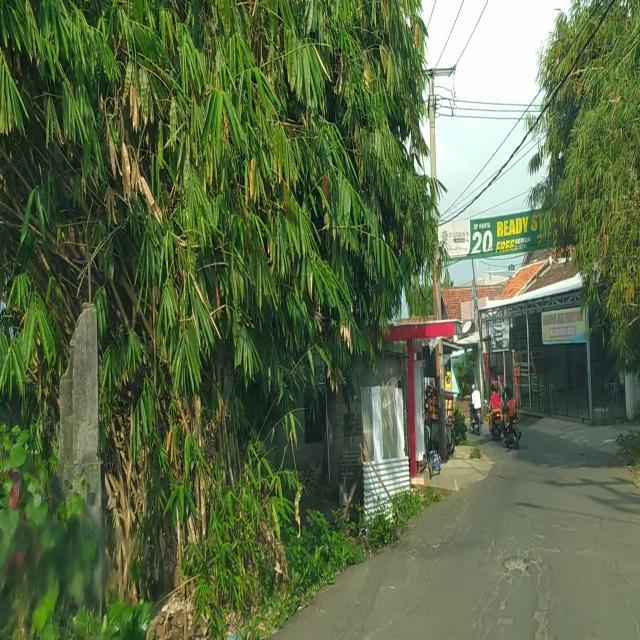Drain Hole: (477, 541, 558, 640), (401, 505, 468, 571)
